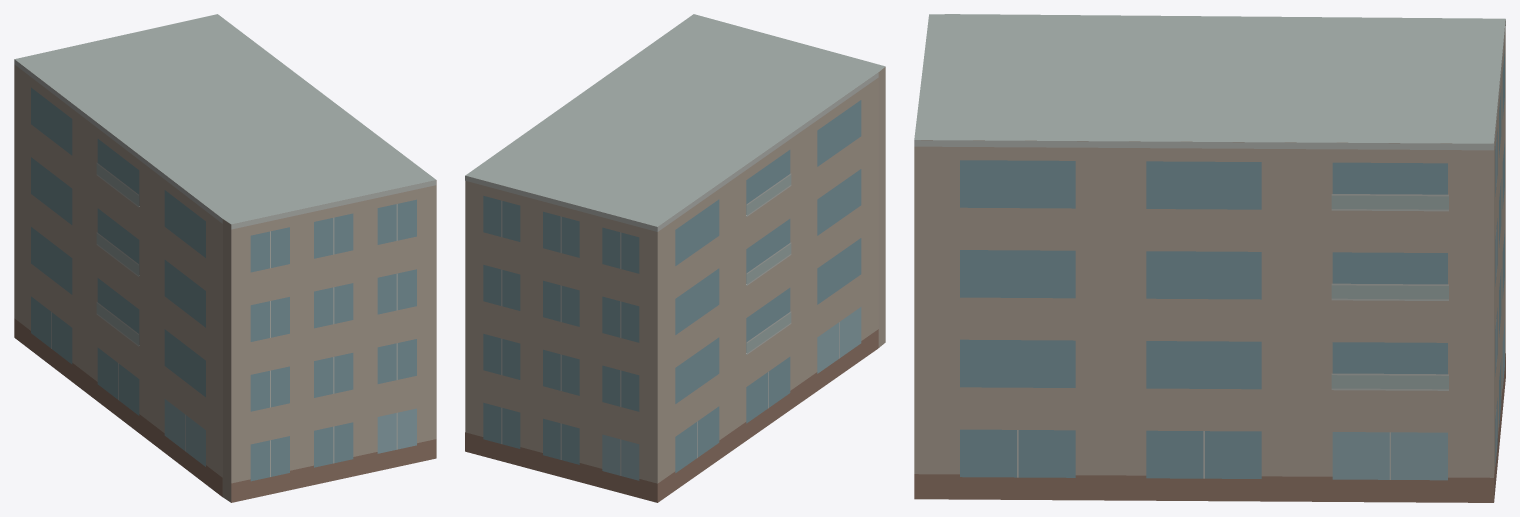
File: survey-upis-32689521.glb
3 renders of one model, left to right at view 1: azimuth 30°, elevation 25°; view 2: azimuth 150°, elevation 25°; view 3: azimuth 270°, elevation 25°, orthographic. The views are drawn at different scales.
Visible parts, largest first — view 1: survey-upis-32689521.tmp; view 2: survey-upis-32689521.tmp; view 3: survey-upis-32689521.tmp.
Boxes of the visible parts, left/top/right/bottom form: survey-upis-32689521.tmp: left=14, top=14, right=436, bottom=502; survey-upis-32689521.tmp: left=465, top=14, right=885, bottom=502; survey-upis-32689521.tmp: left=914, top=14, right=1505, bottom=502.
Size of the model in its own units: 10.24 by 13.2 by 19.71.
